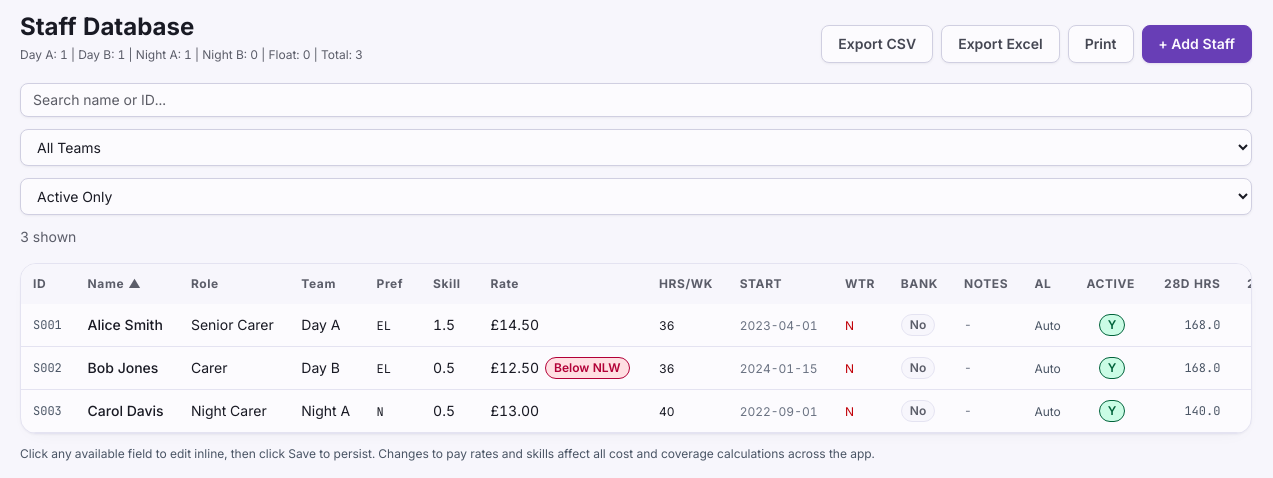
Test case: StaffRegister › search by name filters the staff list
expect the button "Alice Smith" is shown: met, box [88,315,163,335]
Type "Bob" into the field with placeholder "Search name or ID..." at (636, 100), box [20,83,1252,117]
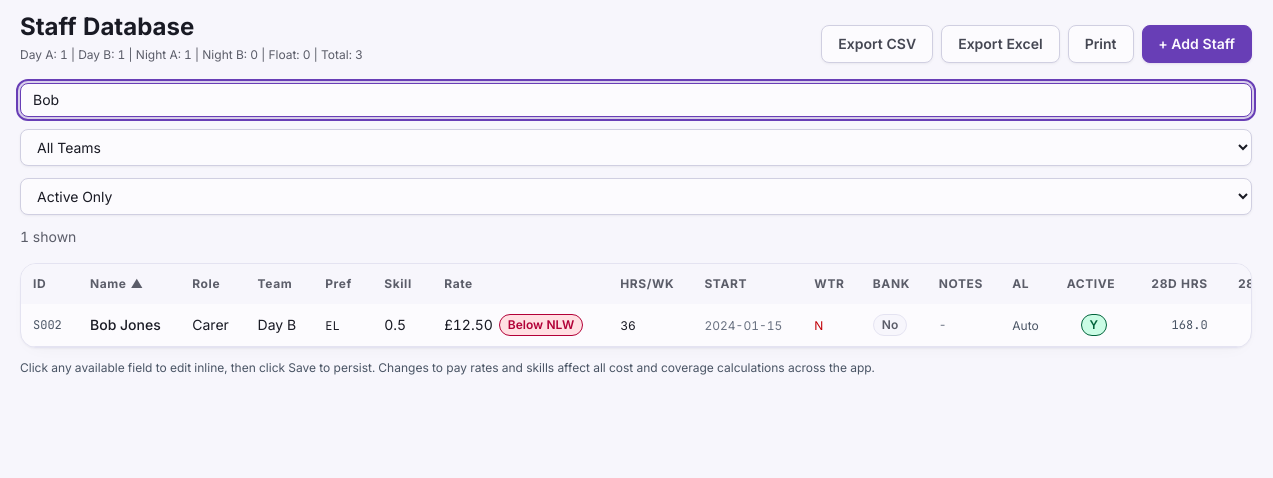
expect the button "Bob Jones" is shown: met, box [90,315,161,335]
expect the button "Alice Smith" is gone: met
